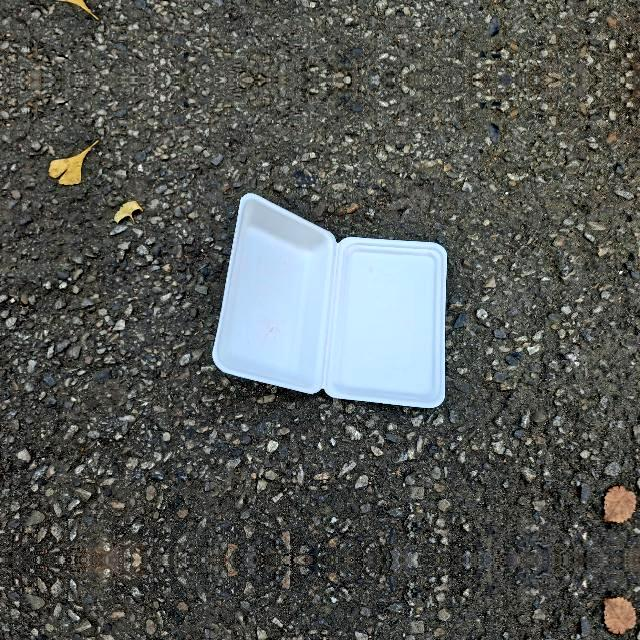Styrofoam: (212, 193, 448, 408), (212, 193, 446, 409)
